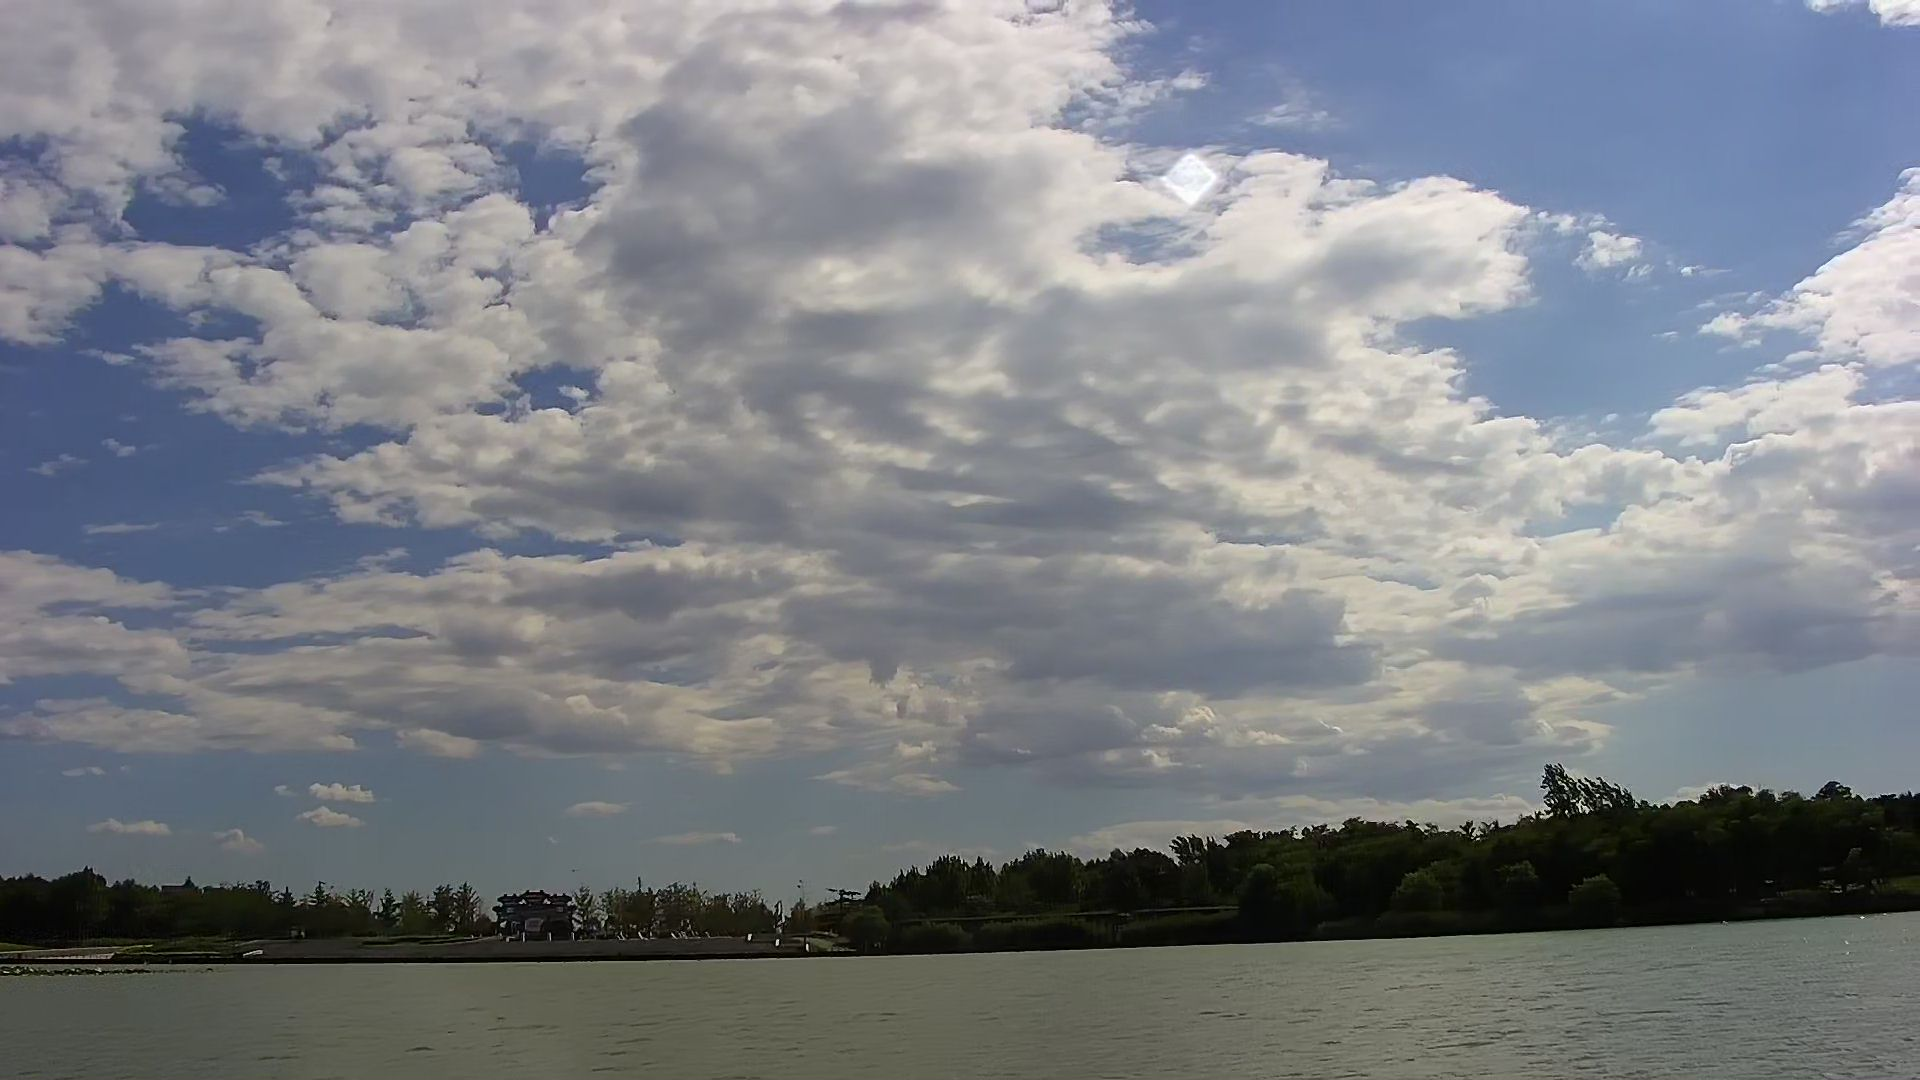harbor: (245, 922, 849, 971)
